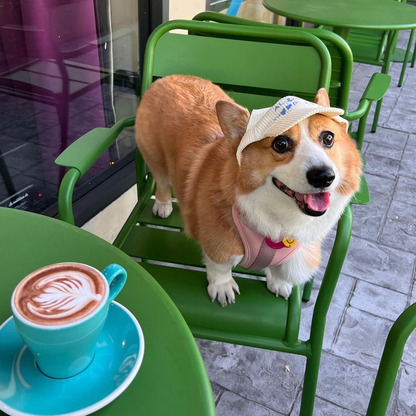Corgi: (132, 73, 368, 313)
